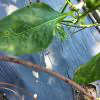Bell_pepper leaf spot: (0, 2, 63, 56), (72, 52, 99, 88)
